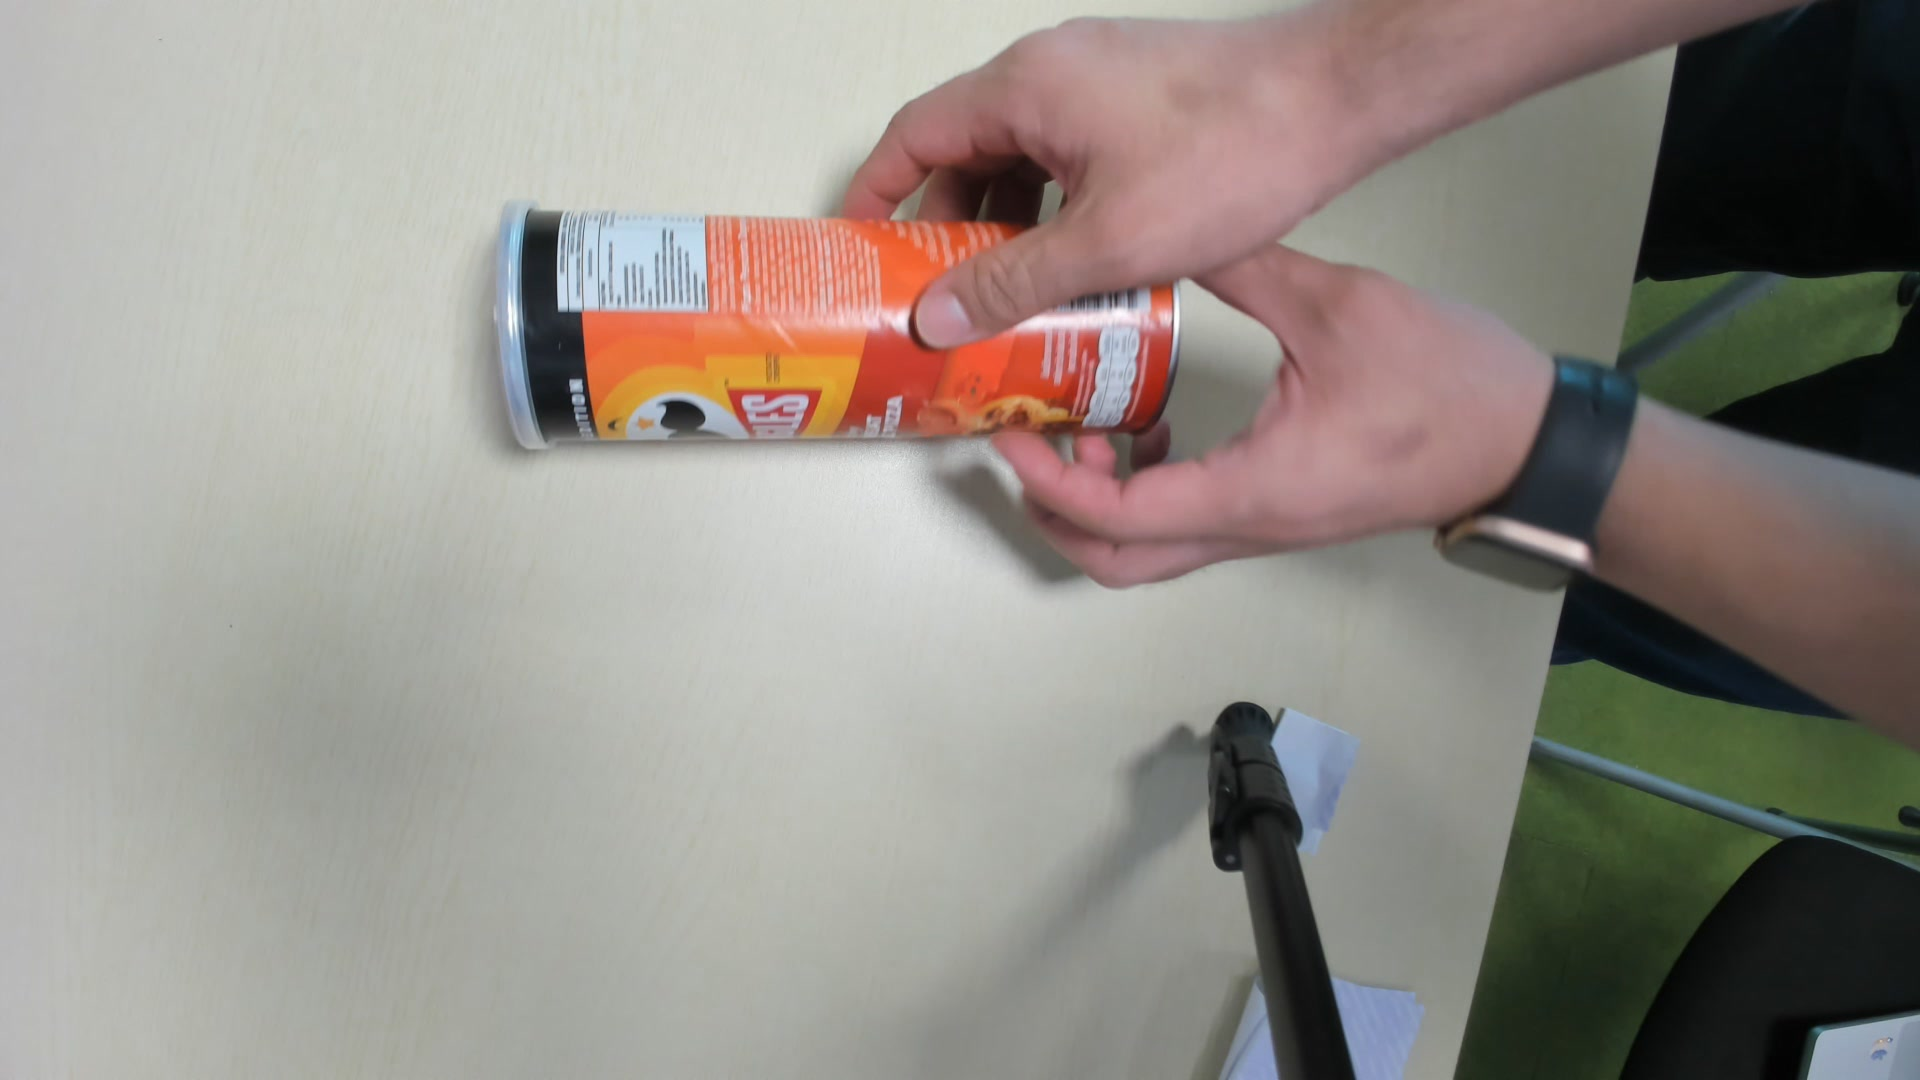PotatoChipsKeropok_0-99g_Halal_NonHealthy: (484, 200, 1191, 454)
